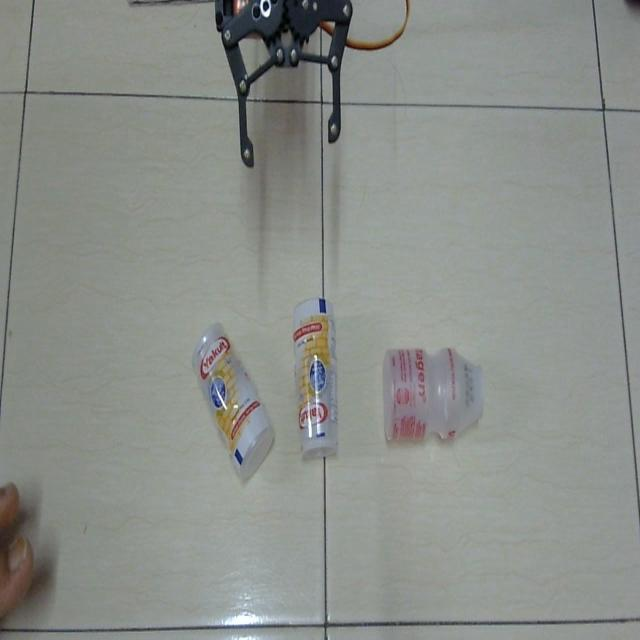Plastic-laydown_0-rotation: (288, 293, 342, 460)
Plastic-laydown_45left-rotation: (189, 317, 277, 485)
Plastic-laydown_90-rotation: (376, 340, 484, 449)
